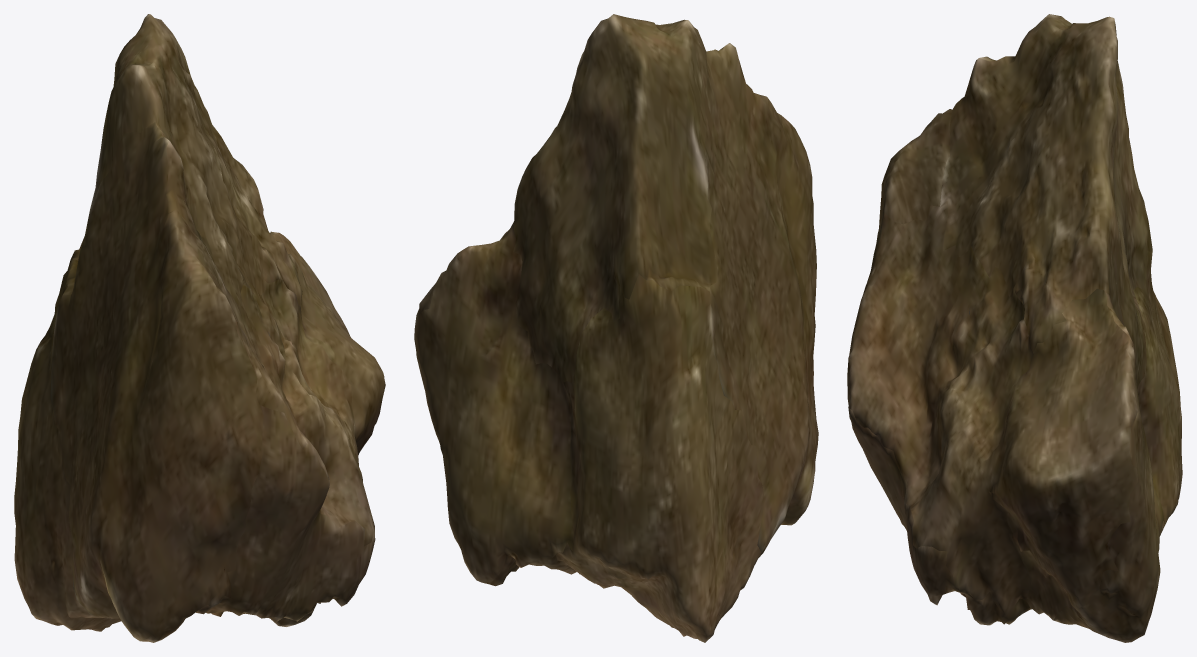
Rendered from stone_d.glb.
3 views of the same model, side by side, from view 1: azimuth 30°, elevation 25°; view 2: azimuth 150°, elevation 25°; view 3: azimuth 270°, elevation 25° (orthographic). The views are drawn at different scales.
Visible parts, largest first — view 1: rock_moss_set_01_rock04.001; view 2: rock_moss_set_01_rock04.001; view 3: rock_moss_set_01_rock04.001.
Boxes of the visible parts, x1=… form: rock_moss_set_01_rock04.001: x1=14, y1=14, x2=385, y2=642; rock_moss_set_01_rock04.001: x1=414, y1=14, x2=818, y2=642; rock_moss_set_01_rock04.001: x1=847, y1=14, x2=1182, y2=642.
Size of the model in its own units: 1.97 by 3.48 by 1.82.
Materials: 1 (1 with a texture image).
